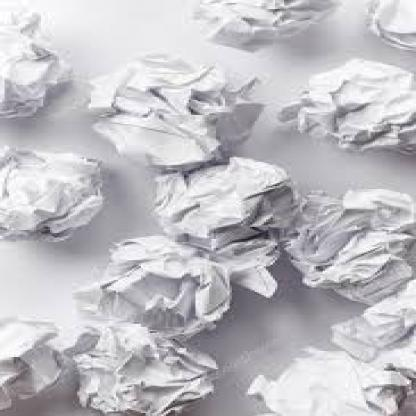paper: (82, 51, 261, 168), (48, 313, 221, 415), (73, 235, 232, 338), (282, 188, 414, 298), (148, 154, 291, 250), (280, 59, 414, 157), (243, 345, 414, 414), (0, 142, 107, 244), (0, 1, 71, 119), (188, 0, 338, 50), (327, 277, 414, 358), (0, 309, 66, 407), (180, 230, 275, 295), (363, 0, 414, 49)
